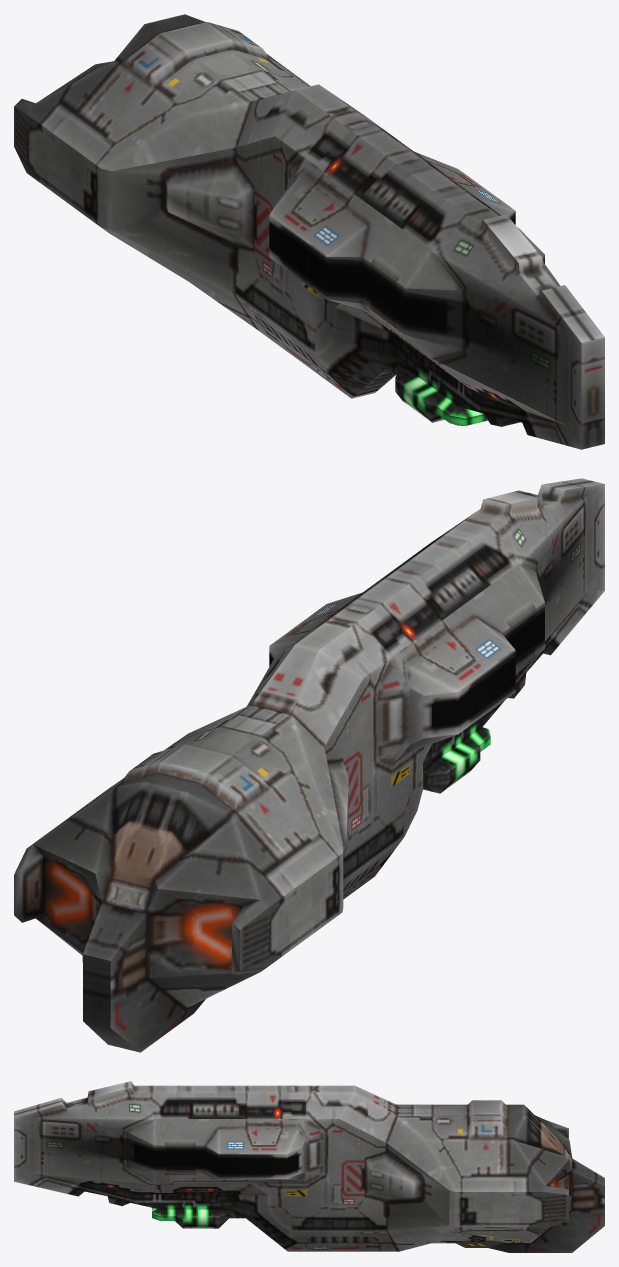
The model's file is vgr_laser_corvette_01.glb.
3 views of the same model, one above another, from view 1: azimuth 30°, elevation 25°; view 2: azimuth 150°, elevation 25°; view 3: azimuth 270°, elevation 25° (orthographic). The views are drawn at different scales.
Visible parts, largest first — view 1: vgr_laser_corvette_01_LOD0; view 2: vgr_laser_corvette_01_LOD0; view 3: vgr_laser_corvette_01_LOD0.
Boxes of the visible parts, x1,y1,x2,y2 form: vgr_laser_corvette_01_LOD0: (14, 14, 604, 449); vgr_laser_corvette_01_LOD0: (14, 478, 604, 1052); vgr_laser_corvette_01_LOD0: (14, 1081, 604, 1252).
Size of what is drawn, in the model's own units: 0.229 by 0.2487 by 0.8135.
Materials: 1 (1 with a texture image).
